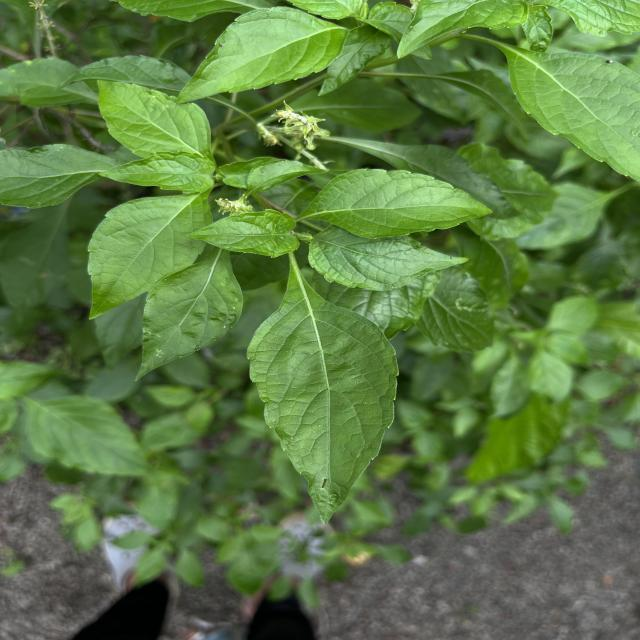Ocimum gratissimum: (244, 268, 404, 529), (479, 34, 640, 186), (172, 3, 353, 105), (82, 192, 216, 324), (299, 163, 498, 242), (131, 253, 245, 384), (304, 224, 472, 294), (95, 75, 218, 169), (0, 140, 116, 210), (181, 204, 303, 260)
